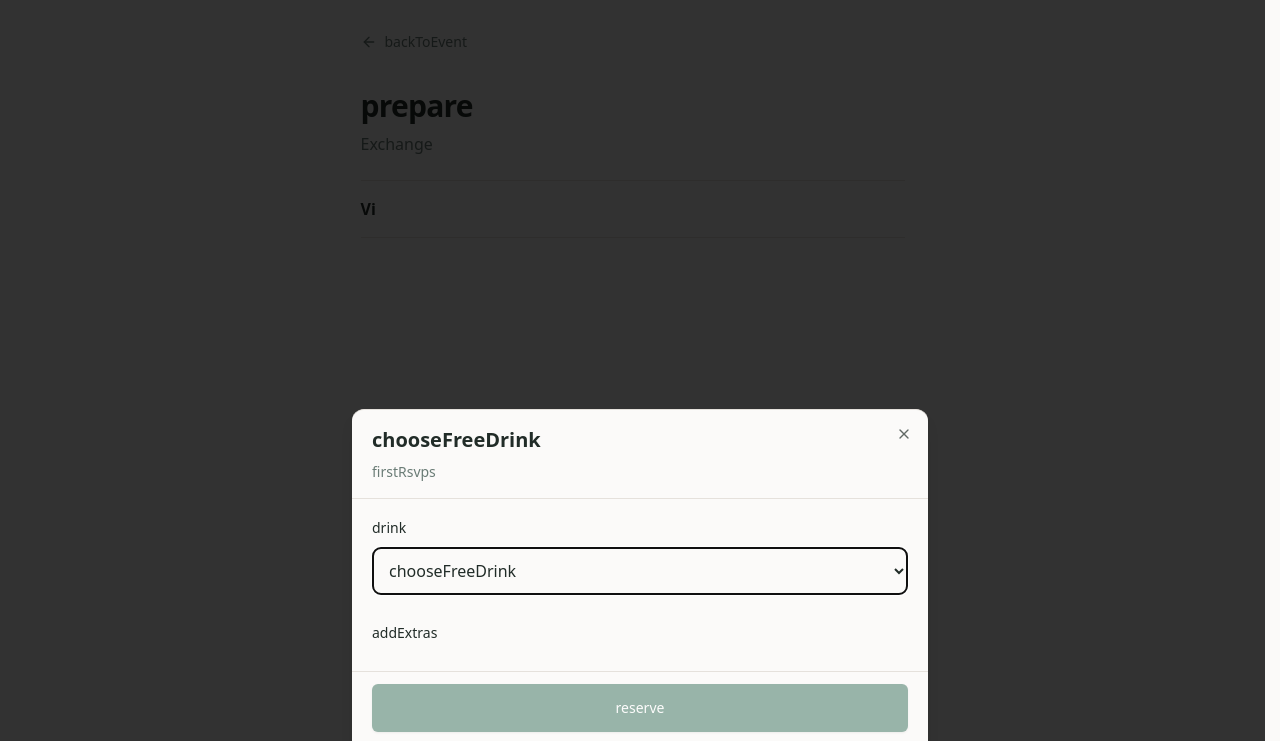
reuses saved language preferences and reserves one sponsored drink before check-in opens
Expected: the text "Vi" is shown, [360,197,376,221]
Select "Coffee" in the dropdown: [640, 571] box [372,547,908,595]
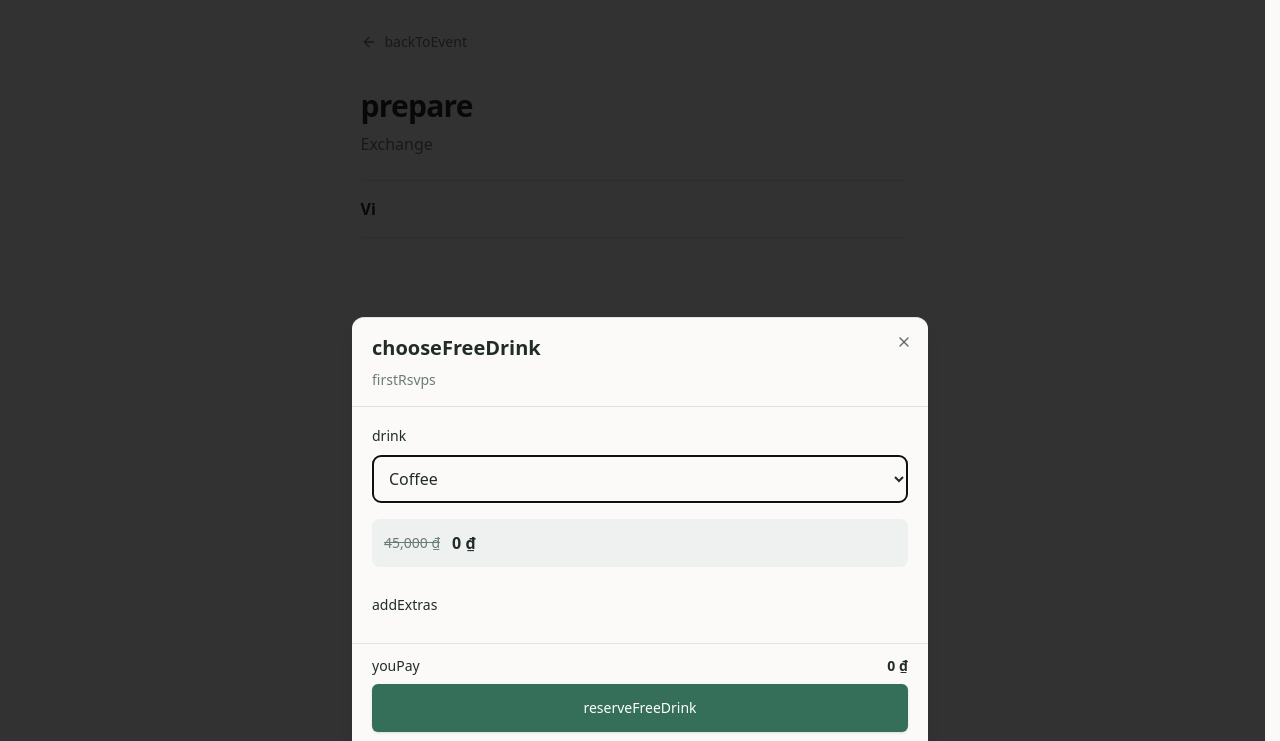
Click the button "reserveFreeDrink": [640, 708] box [372,684,908,732]
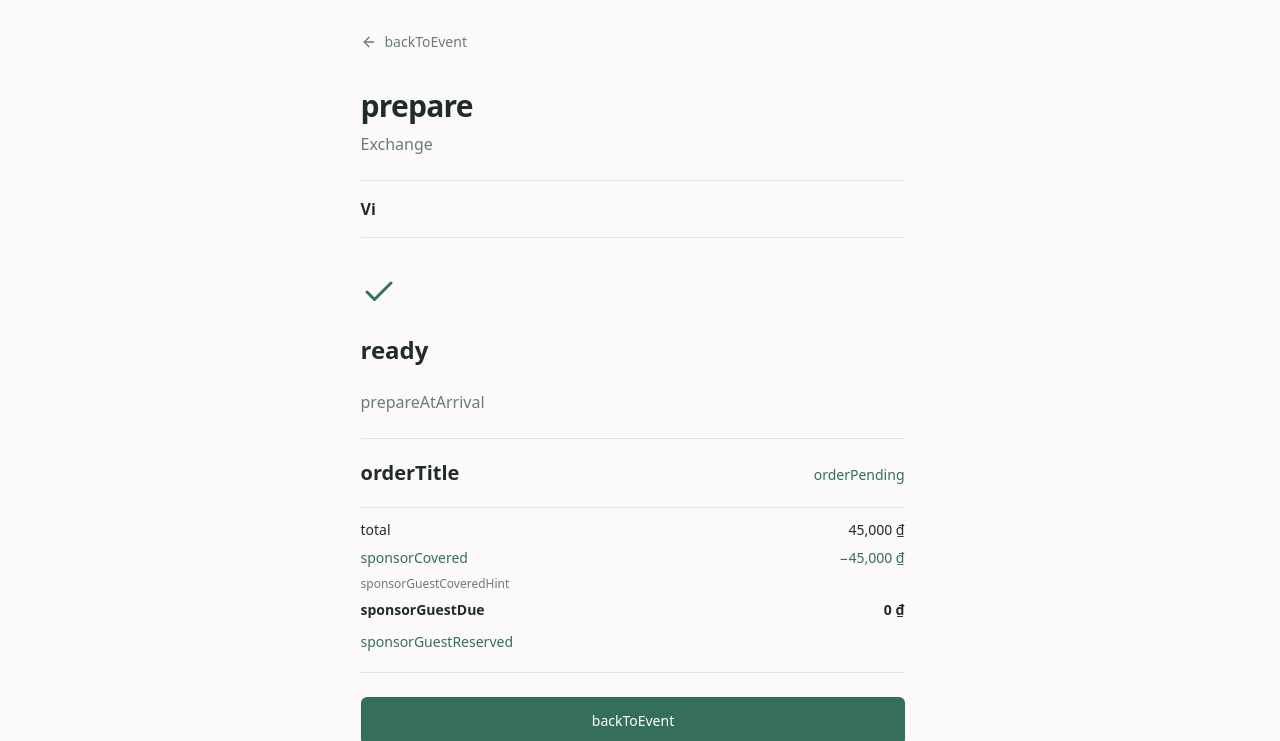
Expected: the heading "ready" is shown, [360,333,428,366]
